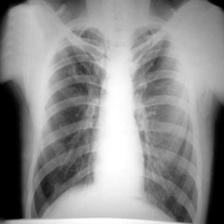tuberculosis: (24, 15, 202, 224)
